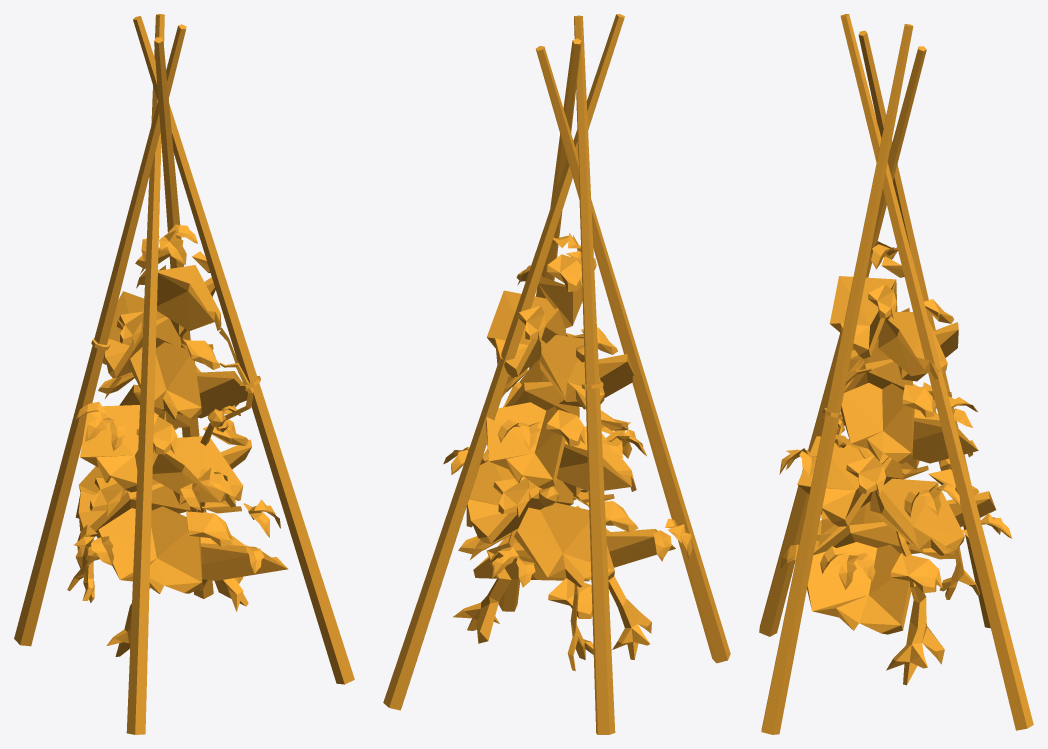
File: SM_Tomato_Harvested_Group_A.fbx
The picture shows the model from 3 angles, left to right: view 1: azimuth 30°, elevation 25°; view 2: azimuth 150°, elevation 25°; view 3: azimuth 270°, elevation 25°; orthographic projection.
Visible parts, largest first — view 1: tomato-harvested-group-a; view 2: tomato-harvested-group-a; view 3: tomato-harvested-group-a.
Boxes of the visible parts, box(x1,y1,x2,y2) form: tomato-harvested-group-a: box(14, 14, 354, 734); tomato-harvested-group-a: box(383, 14, 730, 734); tomato-harvested-group-a: box(759, 14, 1033, 734).
Size of the model in its own units: 1.07 by 2.89 by 1.11.
